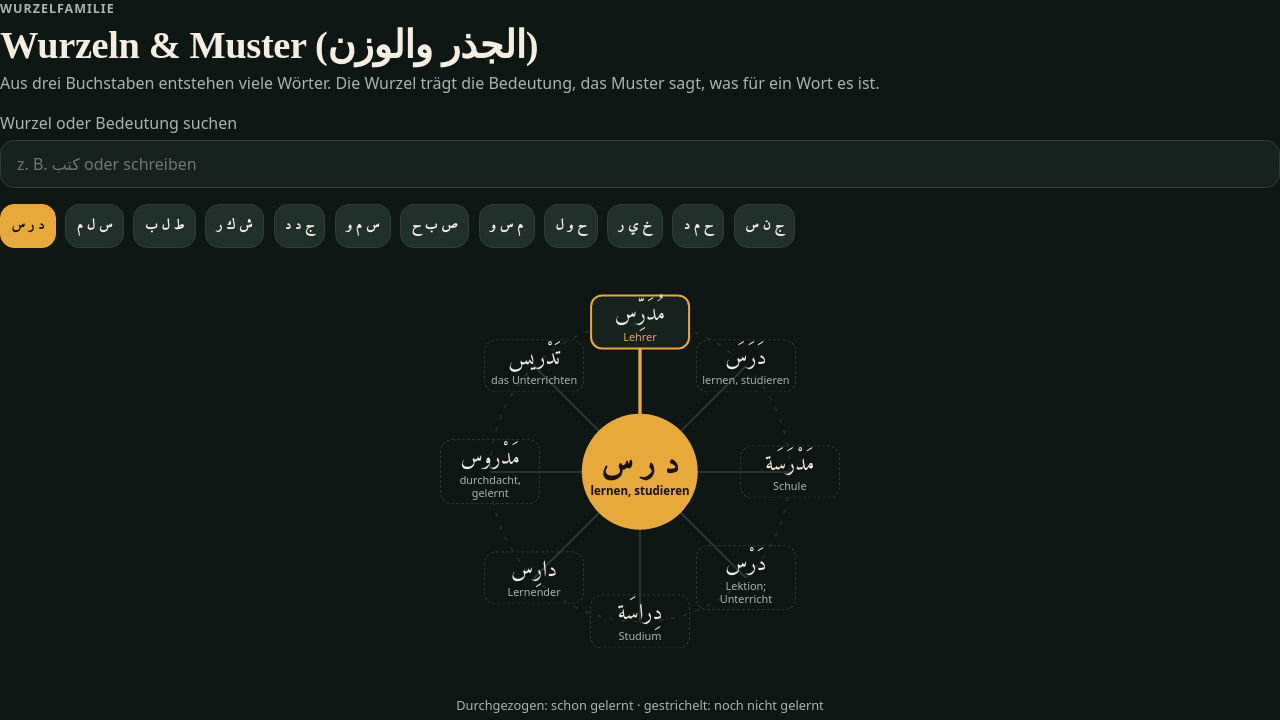
it: Root families (integration) › explains the chosen word: root letters coloured, its pattern and more of it
Type "درس" into the search field at (640, 164), box x1=0 y1=140 x2=1279 y2=188
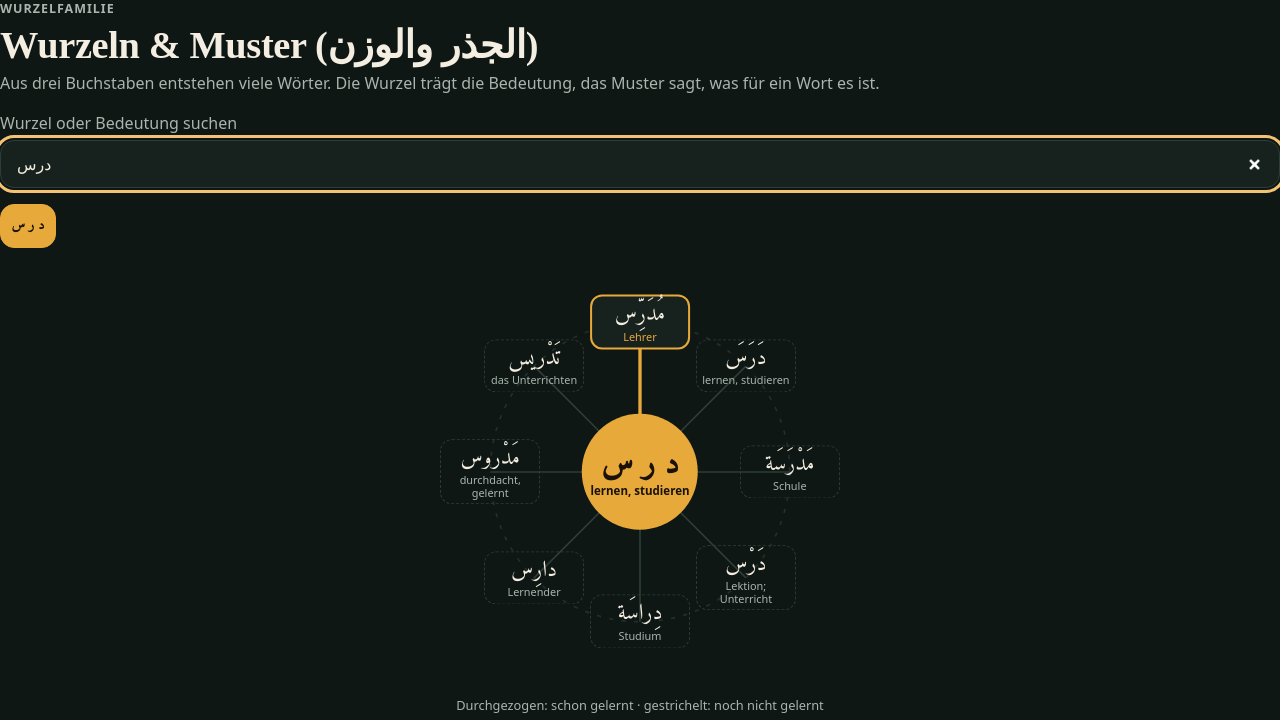
Click the button "د ر س" at (28, 226), box x1=0 y1=204 x2=56 y2=248
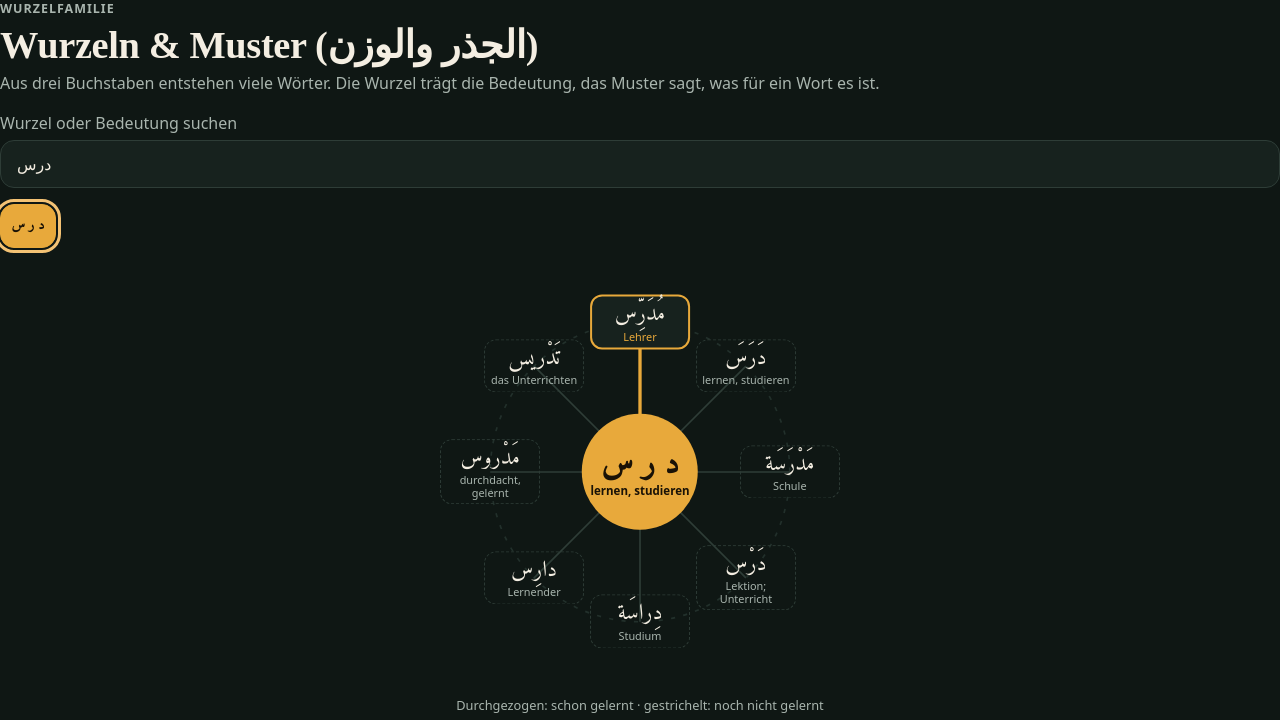
Click the button with aria-label "مَدْرَسَة: Schule (noch nicht gelernt)" at (790, 472), box x1=740 y1=445 x2=840 y2=498
(page scrolled)
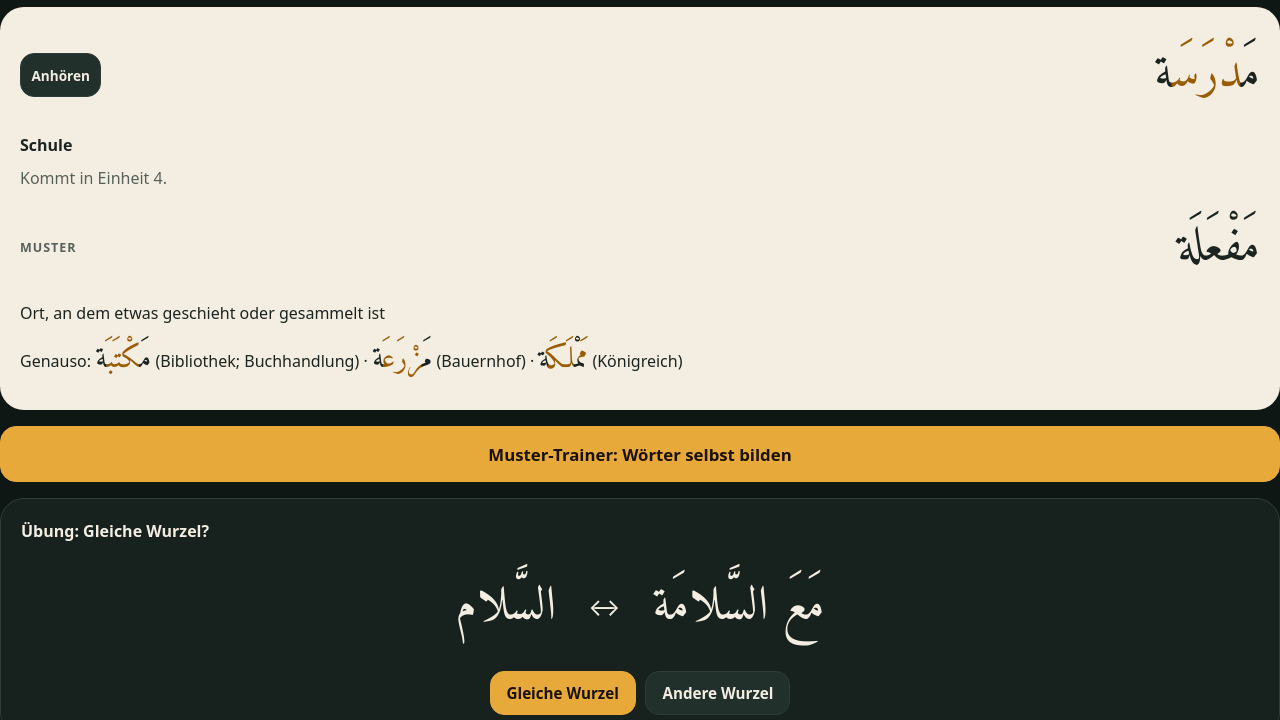
Expected: the text "Genauso:" is shown, x1=20 y1=350 x2=91 y2=372
Expected: the text "Kommt in Einheit 4." is shown, x1=20 y1=168 x2=167 y2=190
Expected: the text "Ort, an dem etwas geschieht oder gesammelt ist" is shown, x1=20 y1=302 x2=385 y2=324
